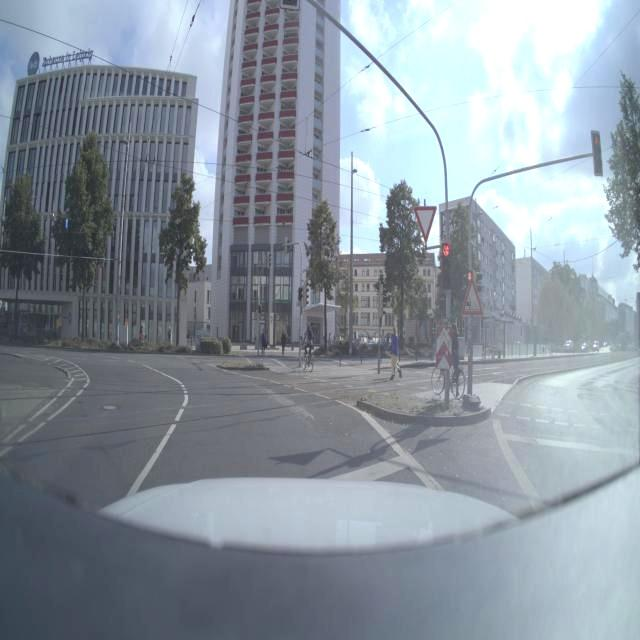Red: (440, 242, 457, 294)
